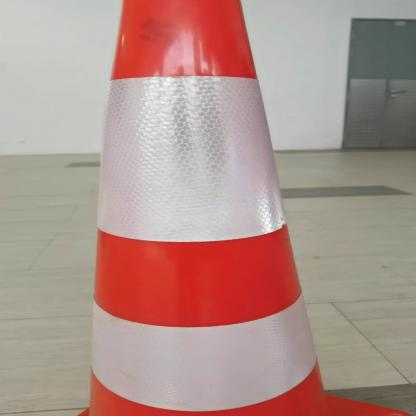cone: (17, 0, 415, 416)
